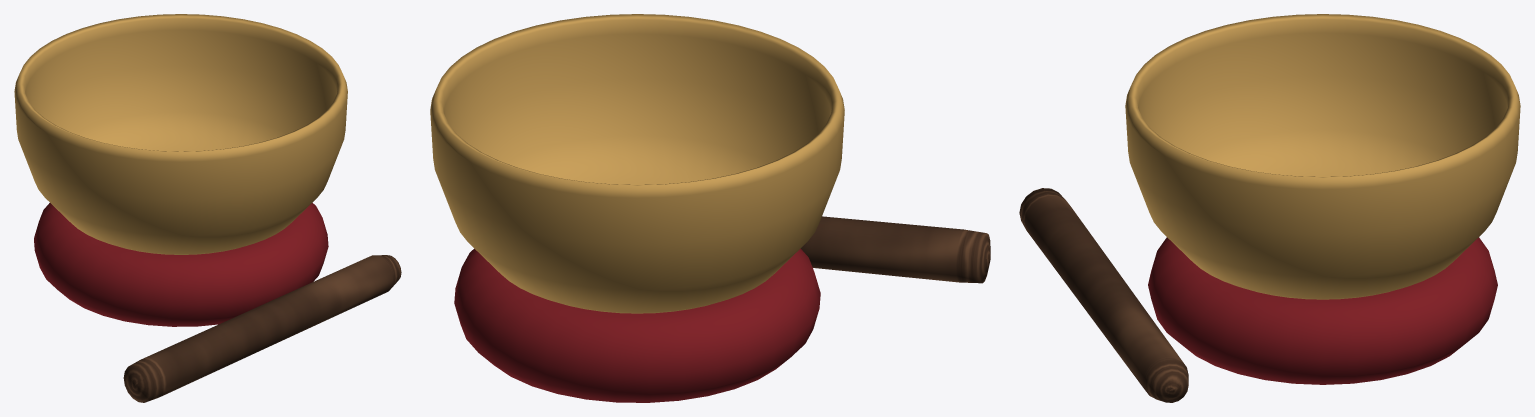
The model's file is PH_SingingBowl.glb.
3 renders of one model, left to right at view 1: azimuth 30°, elevation 25°; view 2: azimuth 150°, elevation 25°; view 3: azimuth 270°, elevation 25°, orthographic. The views are drawn at different scales.
Parts seen in each view (by area): view 1: PH_SingingBowl_Bowl, PH_SingingBowl_Cushion, PH_SingingBowl_Striker; view 2: PH_SingingBowl_Bowl, PH_SingingBowl_Cushion, PH_SingingBowl_Striker; view 3: PH_SingingBowl_Bowl, PH_SingingBowl_Cushion, PH_SingingBowl_Striker.
Boxes of the visible parts, box(x1,y1,x2,y2) form: PH_SingingBowl_Bowl: box(14, 14, 347, 254); PH_SingingBowl_Cushion: box(34, 203, 328, 326); PH_SingingBowl_Striker: box(123, 255, 401, 402); PH_SingingBowl_Bowl: box(430, 14, 844, 313); PH_SingingBowl_Cushion: box(454, 248, 820, 402); PH_SingingBowl_Striker: box(801, 216, 990, 283); PH_SingingBowl_Bowl: box(1125, 14, 1520, 299); PH_SingingBowl_Cushion: box(1148, 237, 1497, 384); PH_SingingBowl_Striker: box(1019, 188, 1188, 402).
Size of the model in its own units: 0.1535 by 0.09 by 0.1775.
3 materials, 1 textured.
